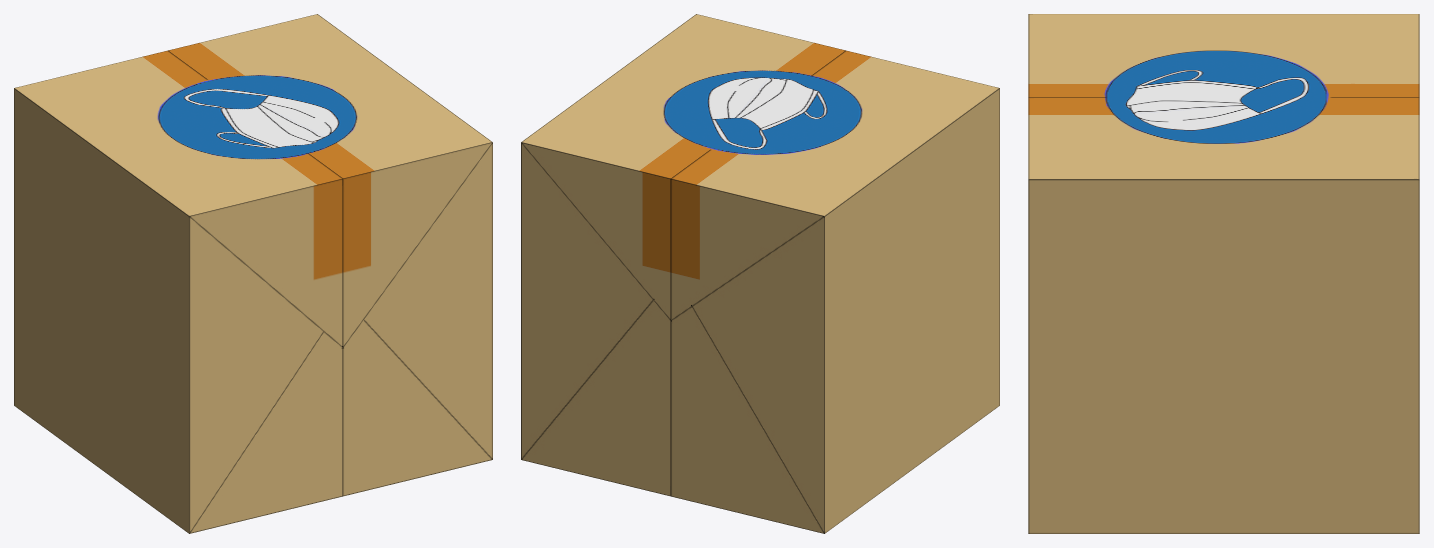
File: Ammon Crate of Masks.fbx
3 renders of one model, left to right at view 1: azimuth 30°, elevation 25°; view 2: azimuth 150°, elevation 25°; view 3: azimuth 270°, elevation 25°, orthographic. The views are drawn at different scales.
Parts seen in each view (by area): view 1: pCube1; view 2: pCube1; view 3: pCube1.
Part boxes in pixels (x1,y1,x2,y2): pCube1: (14,14,492,533); pCube1: (521,14,999,533); pCube1: (1028,14,1419,533).
Size of the model in its own units: 1.91 by 1.91 by 1.91.
Materials: 1 (1 with a texture image).
